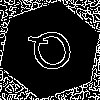Q: (25, 25, 81, 83)
